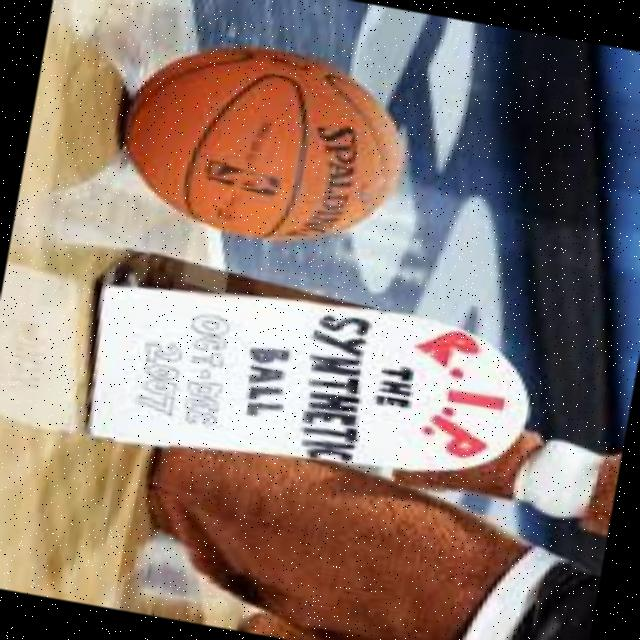ball: (110, 29, 411, 260)
